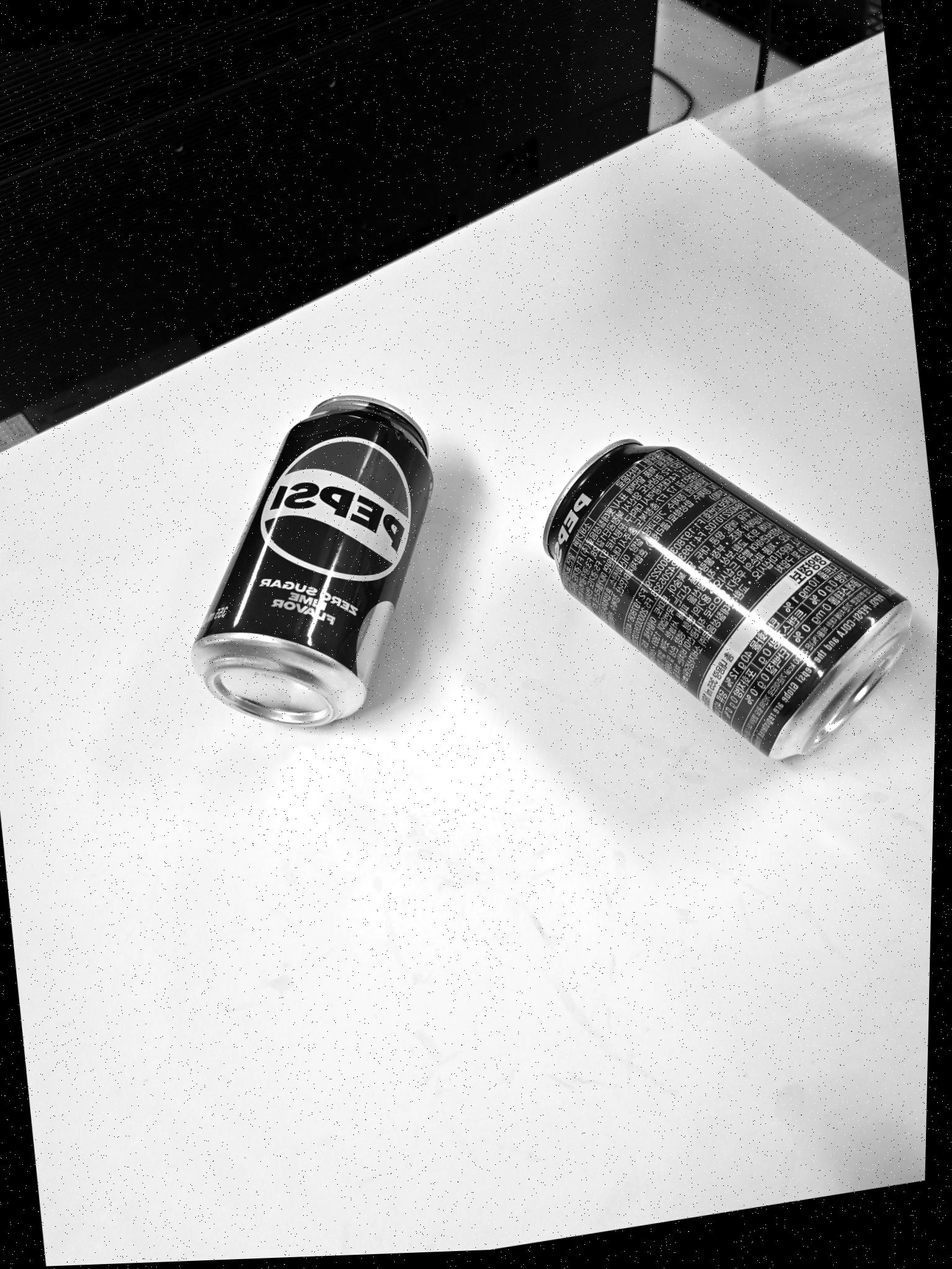can_pepsi: (547, 433, 905, 772)
can_pepsi_zero: (202, 394, 431, 721)
